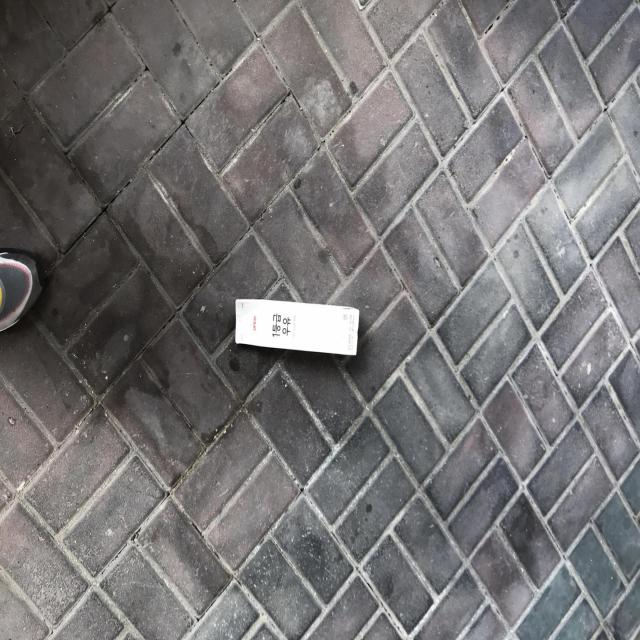paperpack: (235, 299, 360, 355)
